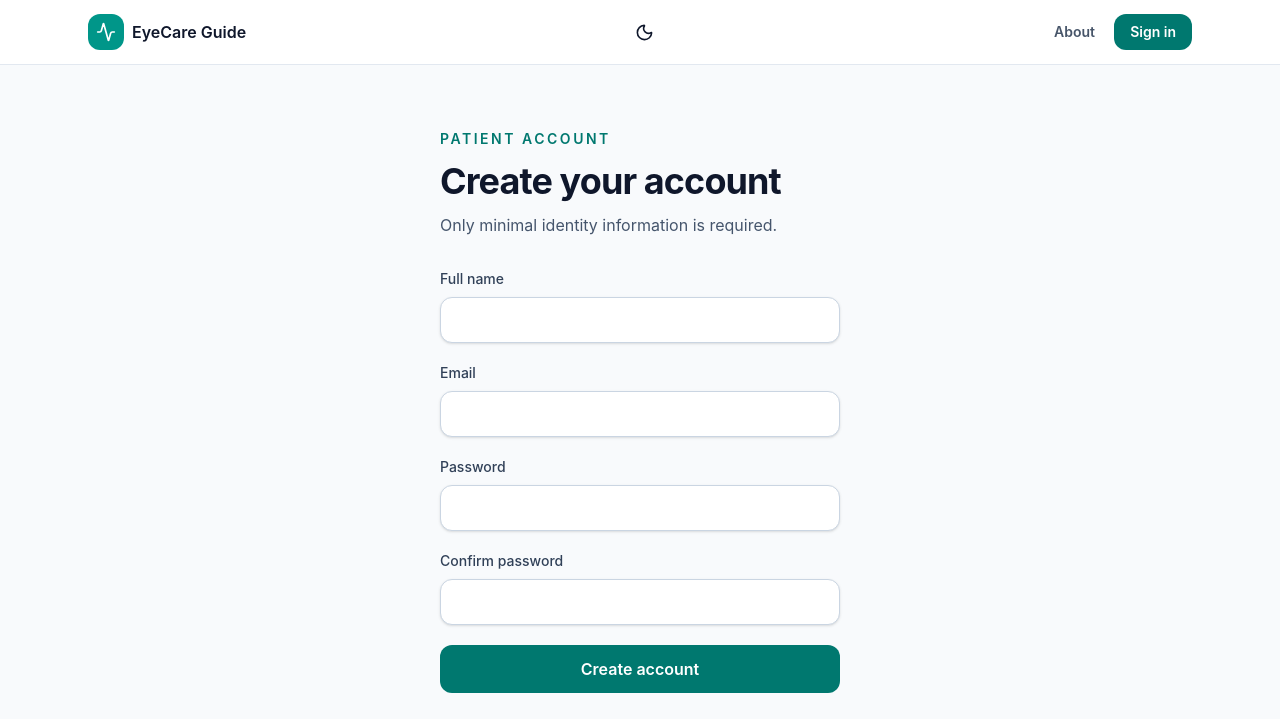
Test: App authentication experience › validates registration fields before sending a request
expect the heading "Create your account" is shown: met, box x1=440 y1=161 x2=840 y2=201
Click the button "Create account". click: (640, 669)
box: x1=440 y1=645 x2=840 y2=693
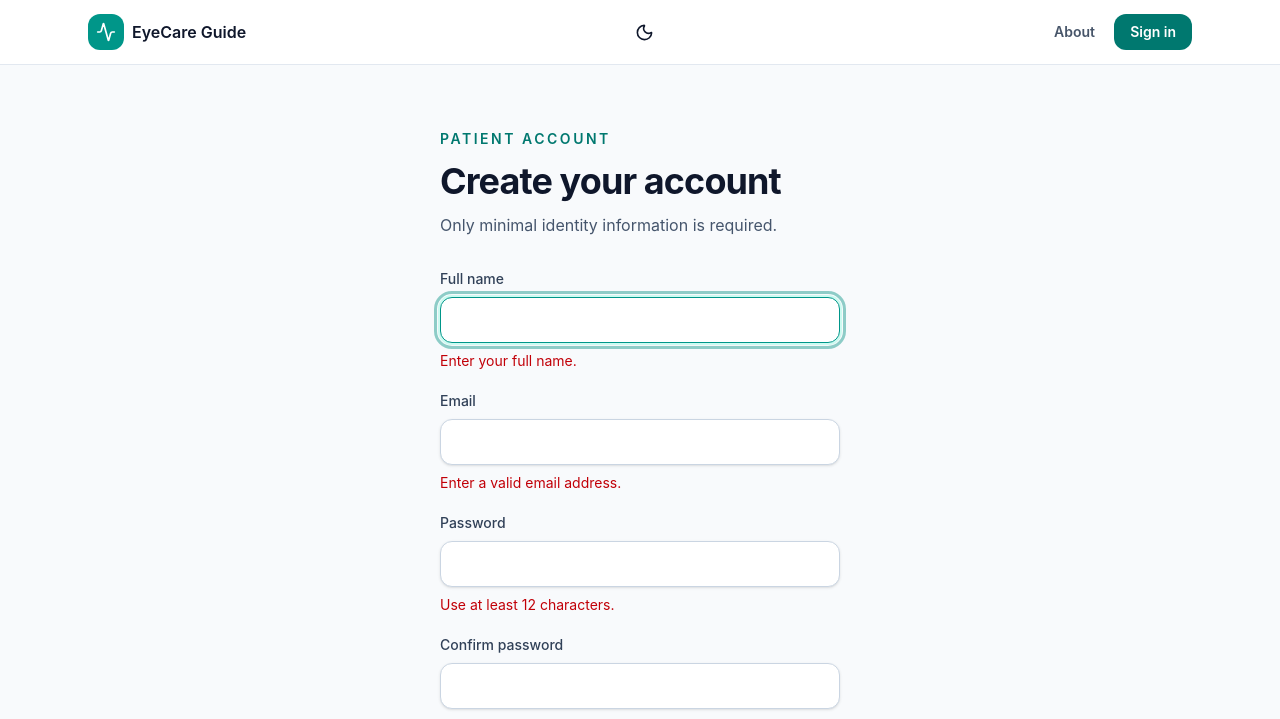
expect the text "Enter your full name." is shown: met, box x1=440 y1=352 x2=577 y2=369
